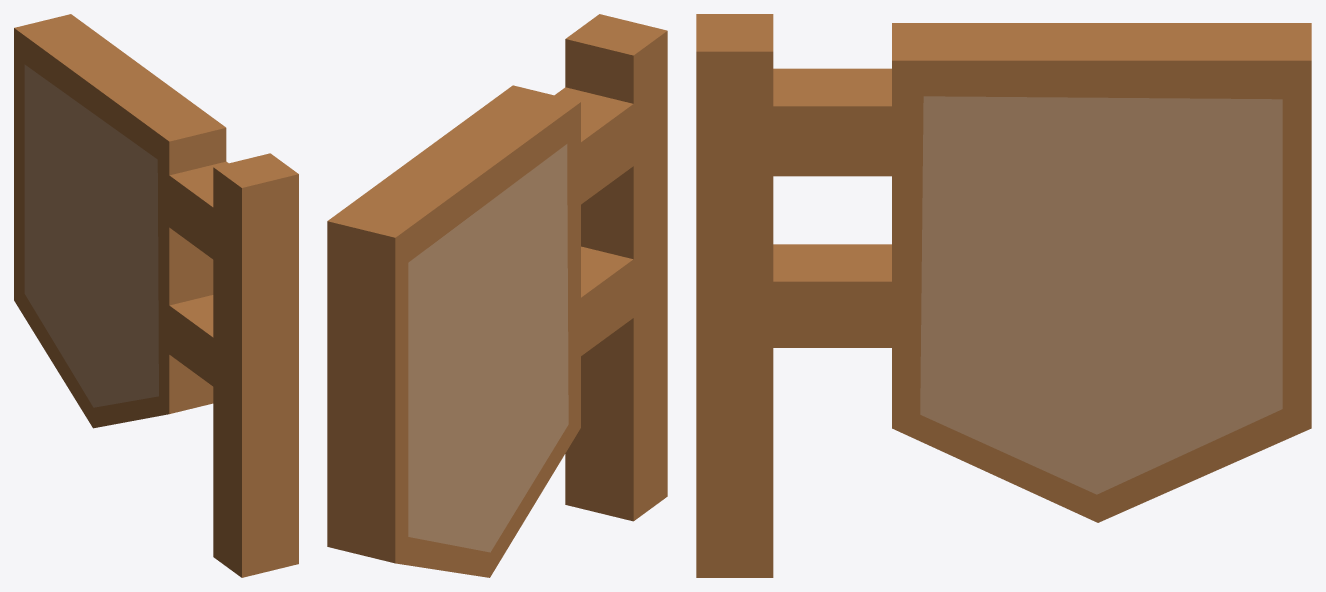
File: EL_House_FrontSign.FBX
The picture shows the model from 3 angles, left to right: view 1: azimuth 30°, elevation 25°; view 2: azimuth 150°, elevation 25°; view 3: azimuth 270°, elevation 25°; orthographic projection. The views are drawn at different scales.
Parts seen in each view (by area): view 1: Box002; view 2: Box002; view 3: Box002.
Boxes of the visible parts, x1,y1,x2,y2 form: Box002: (14, 14, 298, 577); Box002: (327, 14, 667, 577); Box002: (696, 14, 1311, 577).
Size of the model in its own units: 0.1364 by 0.8908 by 0.9435.
